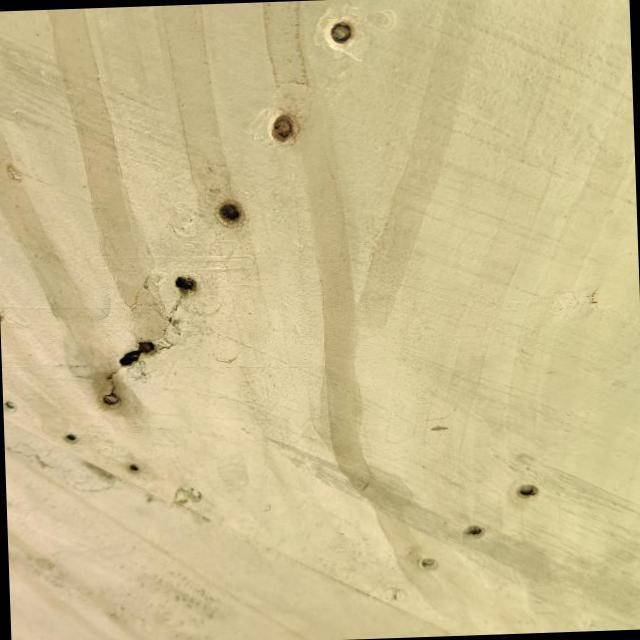Rupture: (82, 311, 208, 422)
